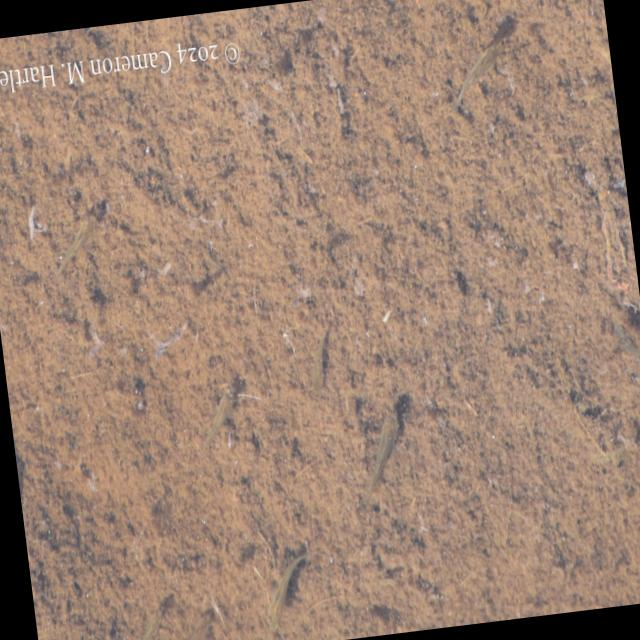Sivrisinek Baligi: (442, 25, 516, 110), (352, 400, 408, 504), (258, 550, 314, 630), (46, 205, 101, 278), (192, 382, 238, 458), (302, 322, 340, 391), (143, 314, 188, 366), (172, 607, 214, 640), (125, 608, 168, 640)
